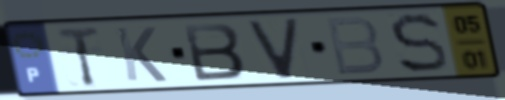B: (179, 21, 248, 83), (322, 15, 387, 78)
K: (112, 25, 170, 85)
S: (386, 11, 452, 76)
T: (54, 23, 103, 89)
V: (244, 15, 302, 82)
